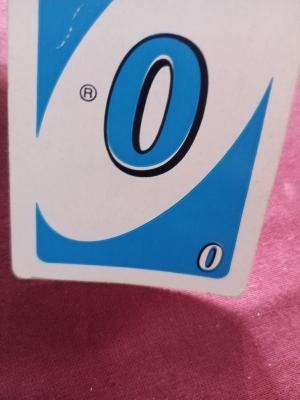num_0: (100, 29, 214, 179), (196, 237, 233, 277)
